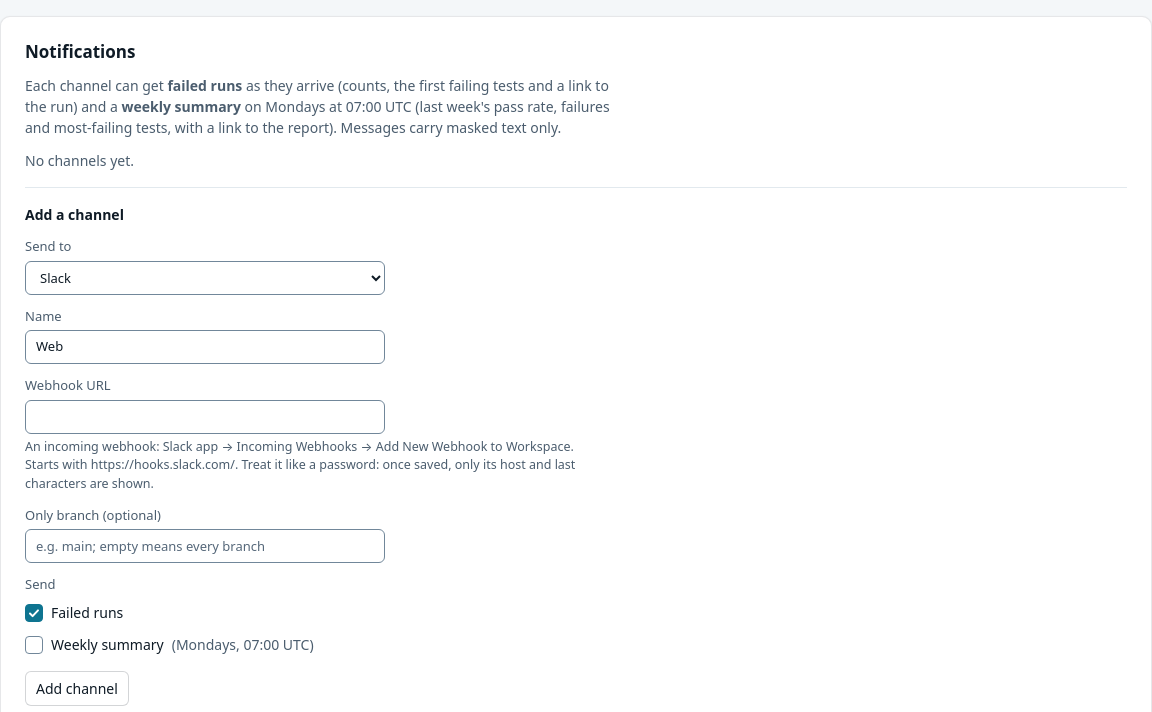
Scenario: adding sends kind, name (prefilled with the project), URL and branch
Expected: the text "No channels yet." is shown, [25,151,134,170]
Expected: the field labelled "Name" holds "Web", [25,330,385,364]
Select "Microsoft Teams" in the dropdown labelled "Send to" at (205, 278), box [25,261,385,295]
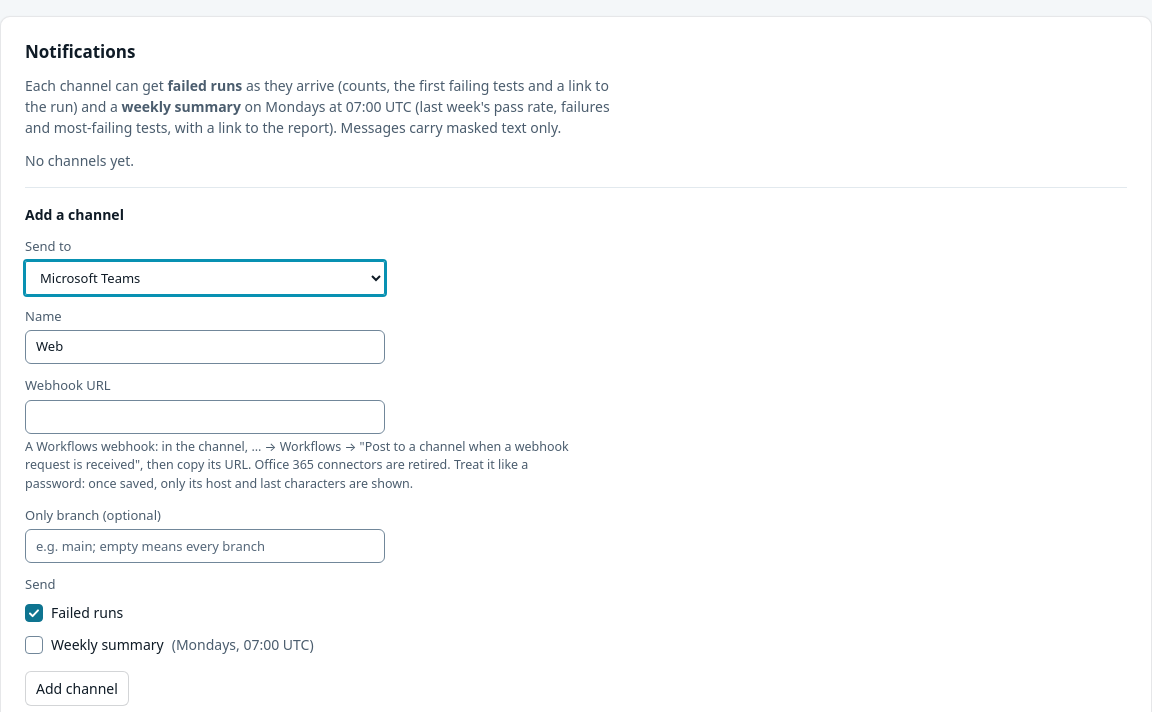
Expected: the text "Workflows" is shown, [25,438,569,473]
Note: Pasted, not typed key by key: a long URL typed under a loaded test run outlasts the timeout
Click the field labelled "Webhook URL".
click(205, 417)  # box [25,400,385,434]
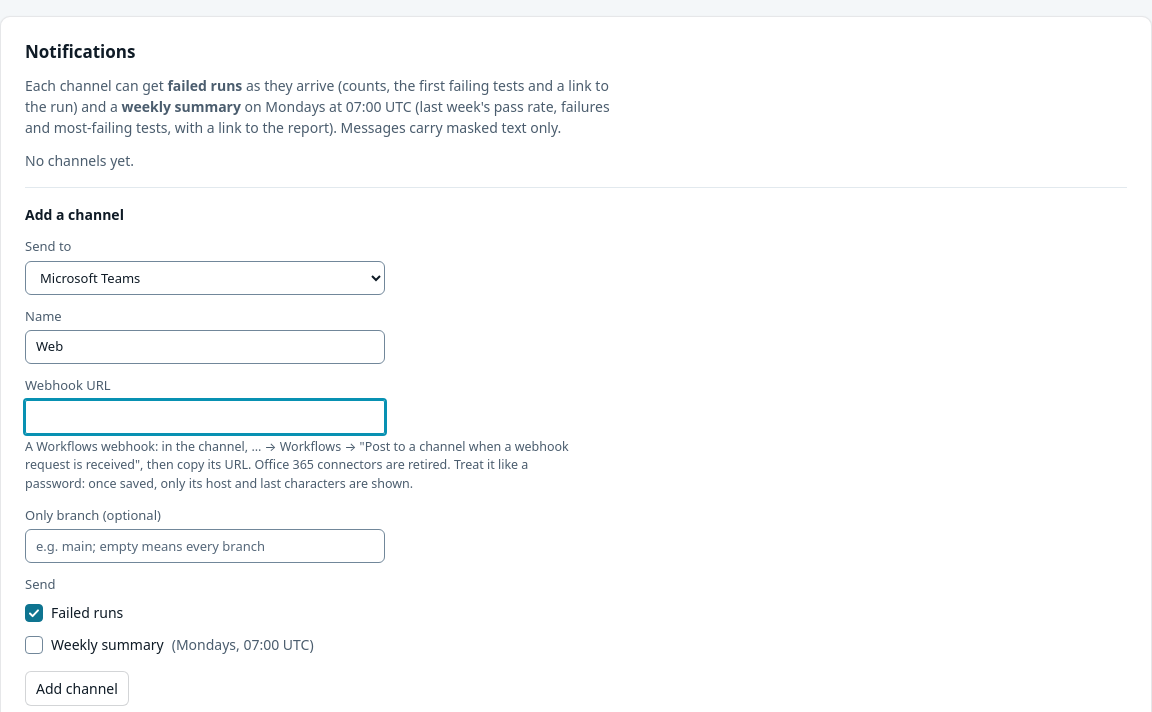
Type keys "https://prod-1.westeurope.logic.azure.com/x"
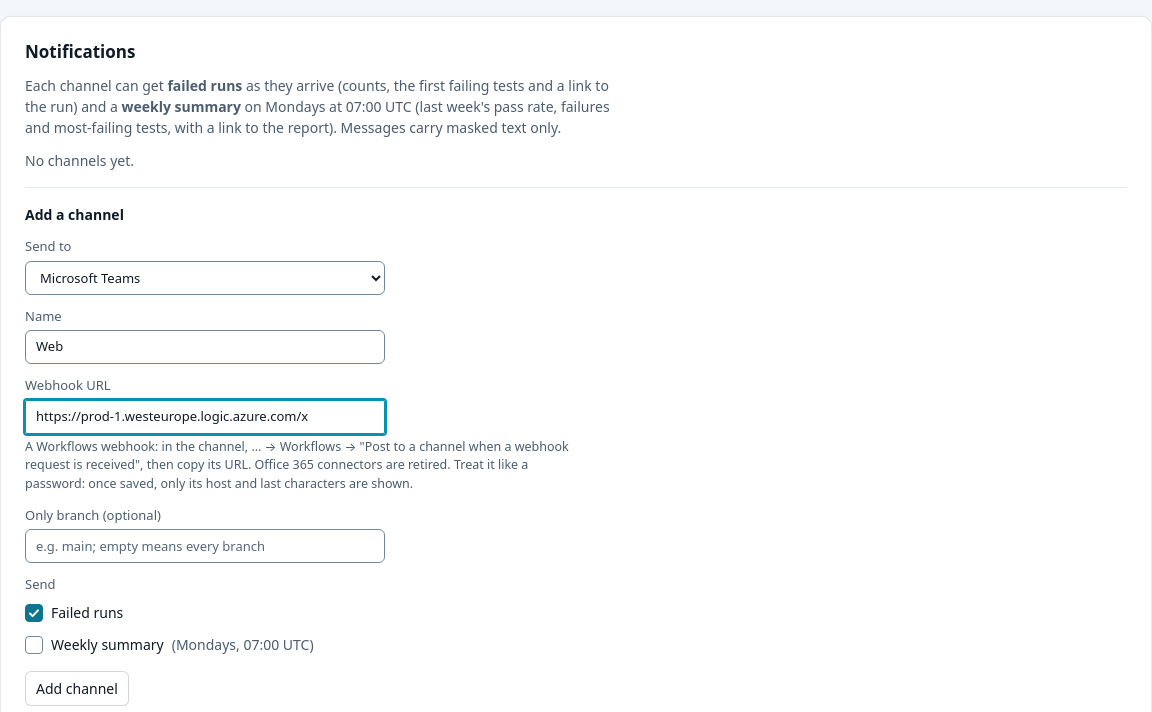
Click the field labelled "Only branch (optional)".
click(205, 546)  # box [25,529,385,563]
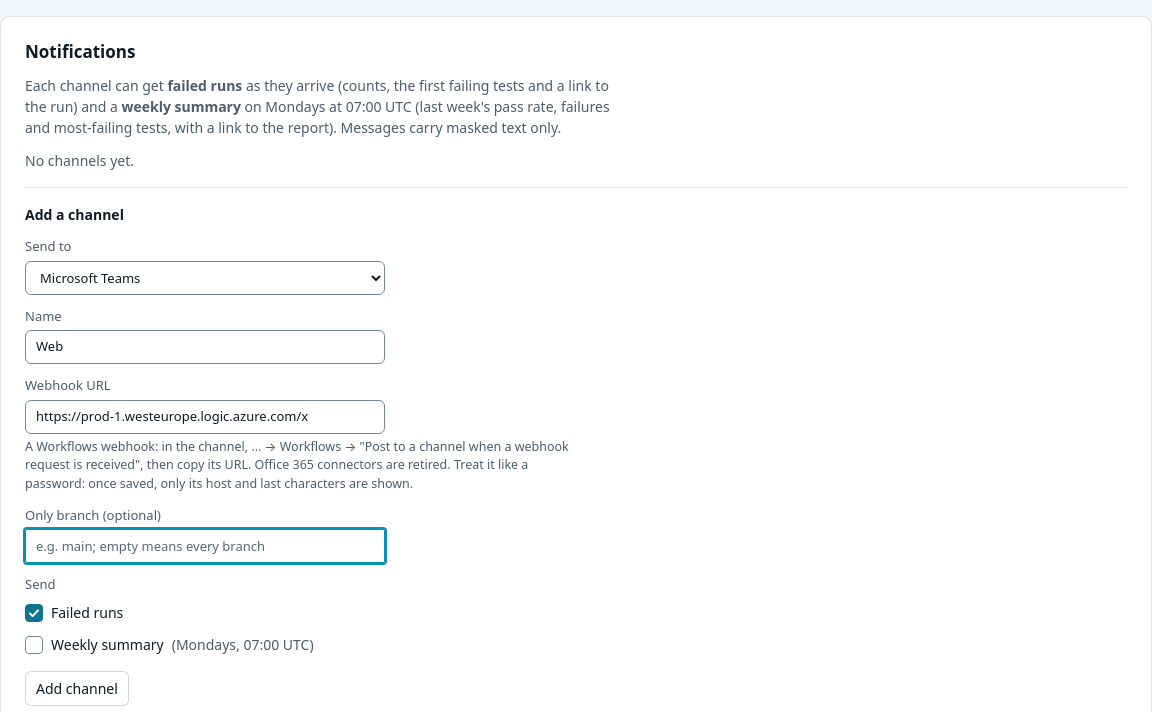
Type keys "main"
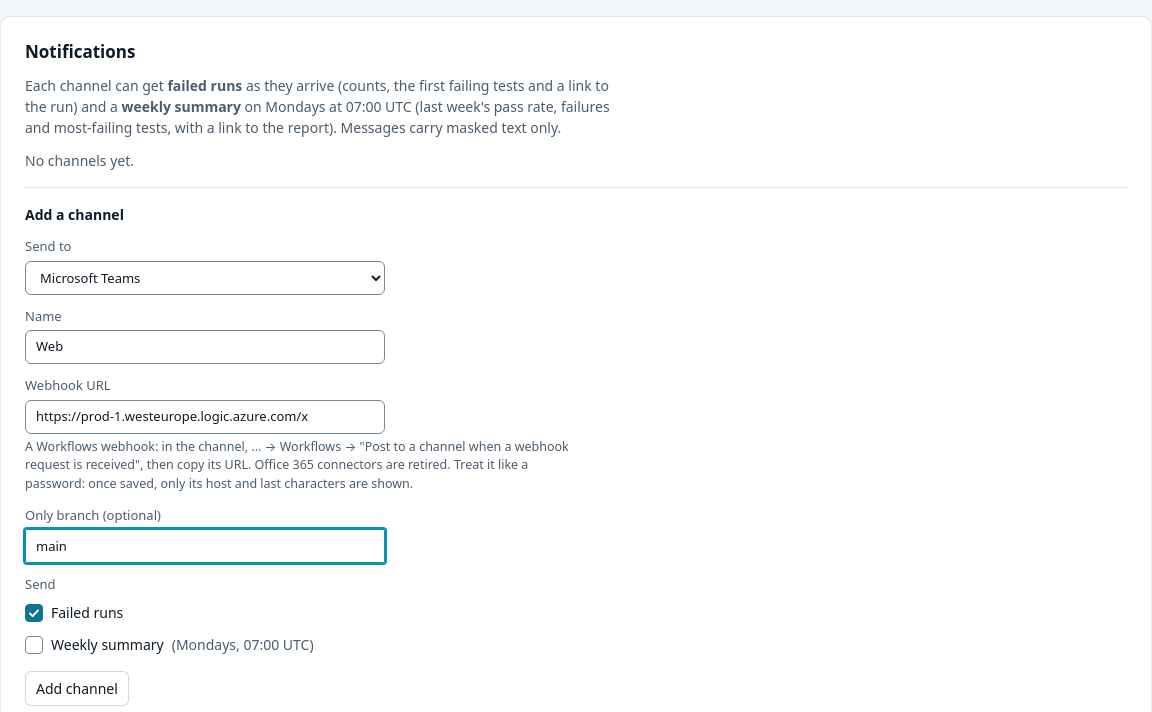
Click the button "Add channel".
click(77, 688)  # box [25,671,129,706]
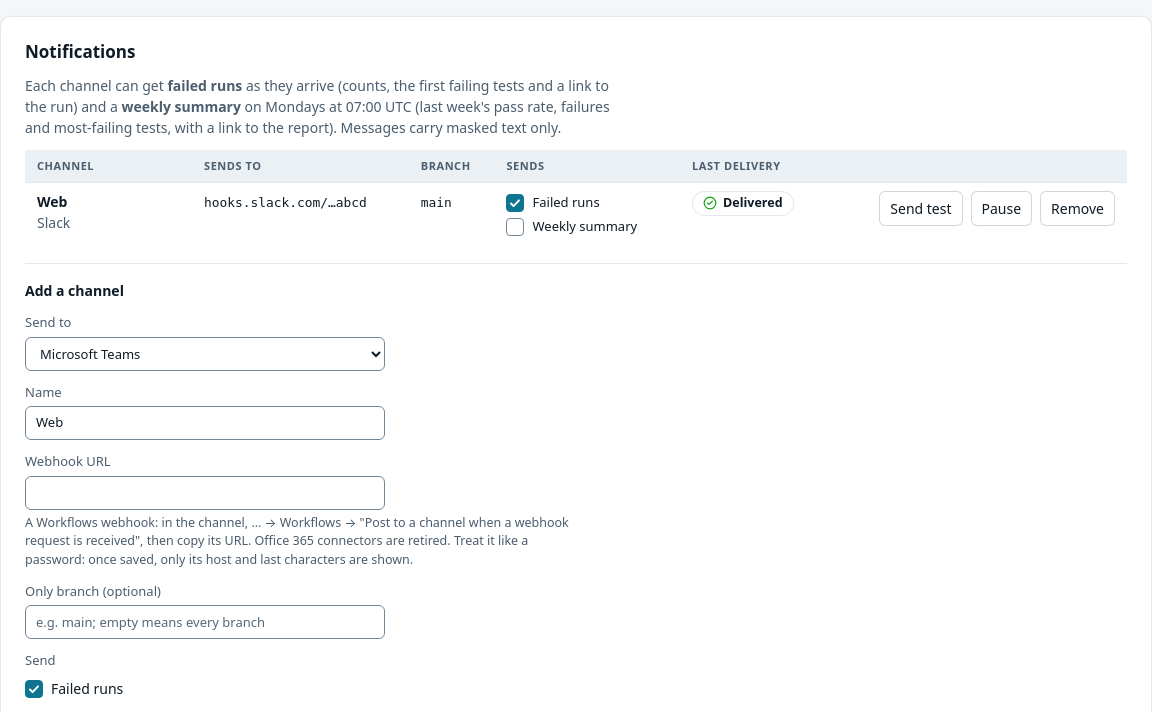
Expected: the text "hooks.slack.com/…abcd" is shown, [204,195,367,210]
Expected: the field labelled "Webhook URL" is empty, [25,476,385,510]
